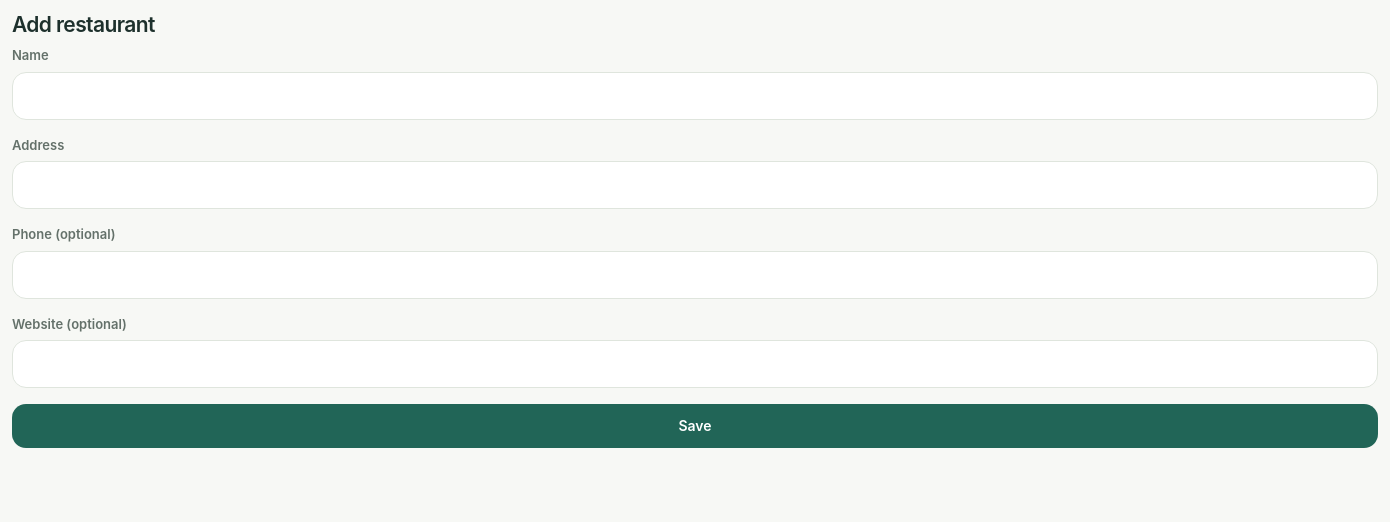
Test: RestaurantFormPage — create › validates before writing and shows field errors
Click the button with test id "save-restaurant" at (695, 426), box [12, 404, 1378, 448]
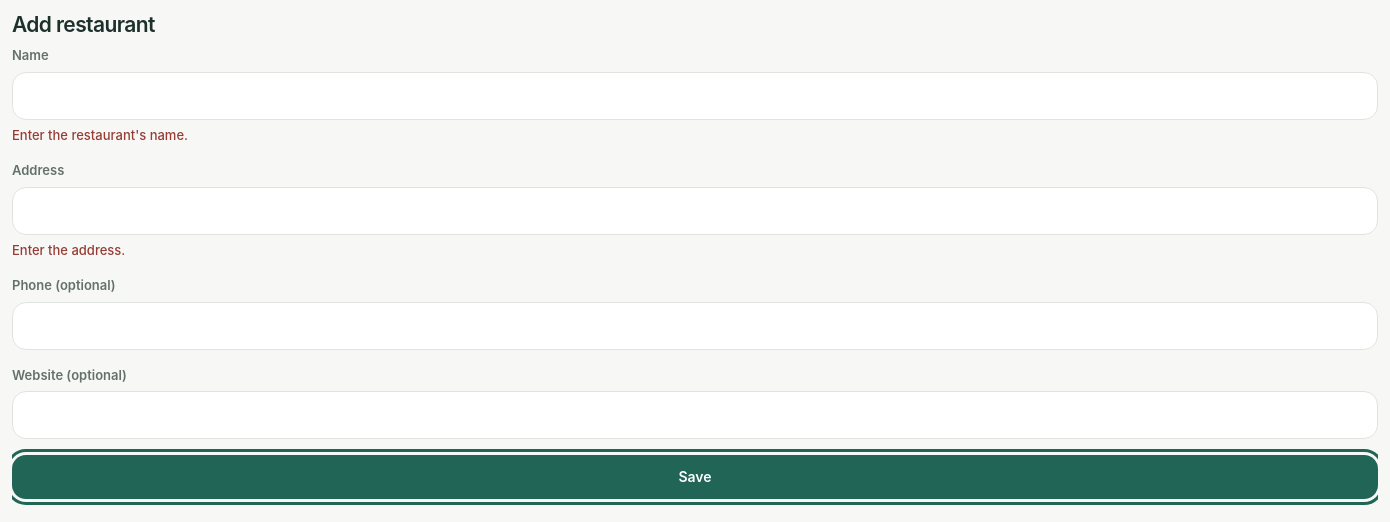
Expected: the text with test id "error-name" reads "Enter the restaurant's name.", [12, 127, 188, 143]
Expected: the text with test id "error-address" reads "Enter the address.", [12, 242, 125, 258]
